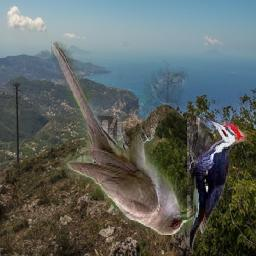Cuckoo: (52, 41, 195, 235)
Woodpecker: (187, 119, 247, 252)
